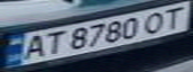0: (118, 15, 145, 40)
7: (84, 20, 109, 47)
8: (66, 25, 90, 52), (103, 18, 127, 44)
A: (18, 33, 51, 62)
O: (139, 8, 172, 35)
T: (157, 3, 193, 30), (39, 28, 69, 56)
